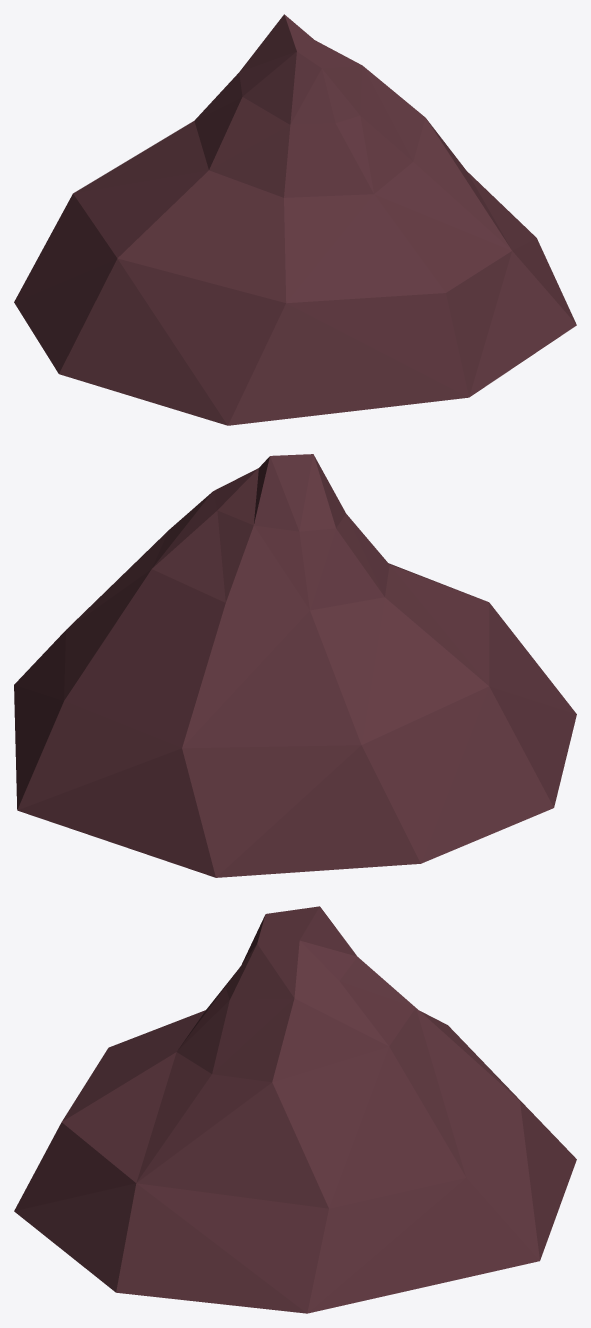
Rendered from deposit-salt.fbx.
3 renders of one model, top to bottom at view 1: azimuth 30°, elevation 25°; view 2: azimuth 150°, elevation 25°; view 3: azimuth 270°, elevation 25°, orthographic. The views are drawn at different scales.
Parts seen in each view (by area): view 1: deposit-salt; view 2: deposit-salt; view 3: deposit-salt.
Boxes of the visible parts, x1=… form: deposit-salt: x1=14, y1=14, x2=576, y2=425; deposit-salt: x1=14, y1=454, x2=576, y2=877; deposit-salt: x1=14, y1=906, x2=576, y2=1313.
Size of the model in its own units: 1.25 by 0.6895 by 1.21.
